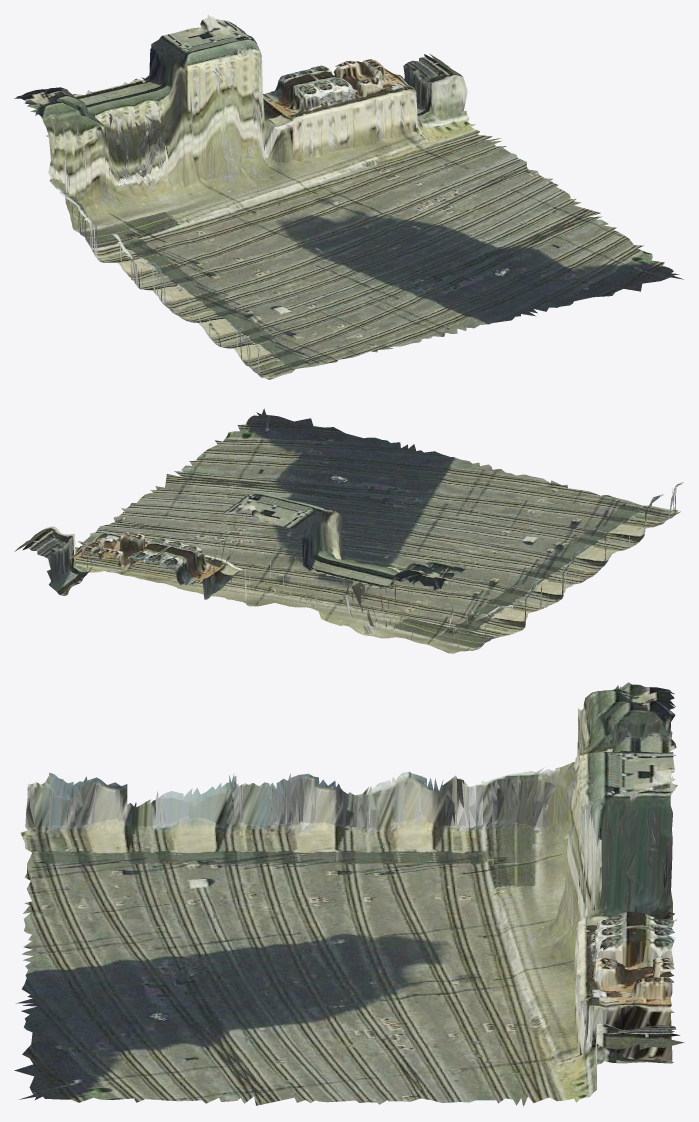
The model's file is Tile_002_003_L14_231.glb.
3 views of the same model, one above another, from view 1: azimuth 30°, elevation 25°; view 2: azimuth 150°, elevation 25°; view 3: azimuth 270°, elevation 25° (orthographic). The views are drawn at different scales.
Parts seen in each view (by area): view 1: rtc; view 2: rtc; view 3: rtc.
Boxes of the visible parts, <box> form: rtc: <box>14,14,683,379</box>; rtc: <box>14,408,684,653</box>; rtc: <box>14,682,684,1107</box>.
Bounding box in the file's own units: 141 × 43.14 × 141.
1 material, 1 textured.
